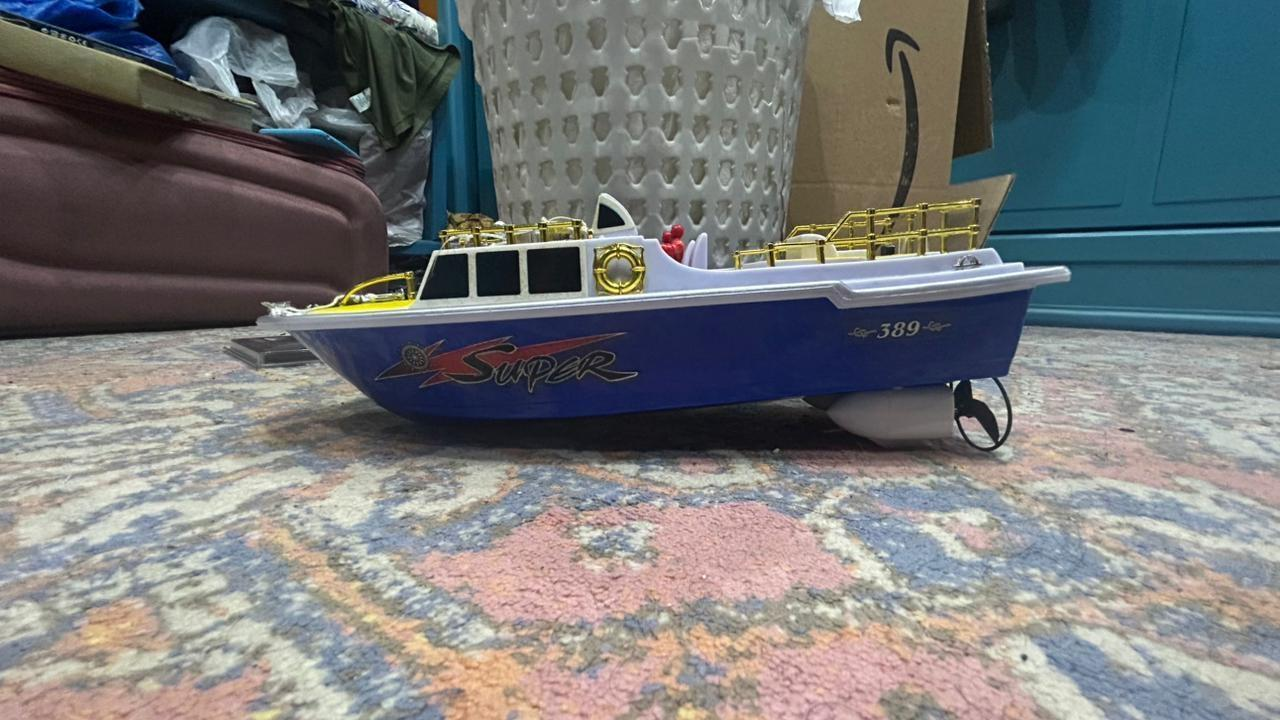Boat: (266, 189, 1096, 463)
